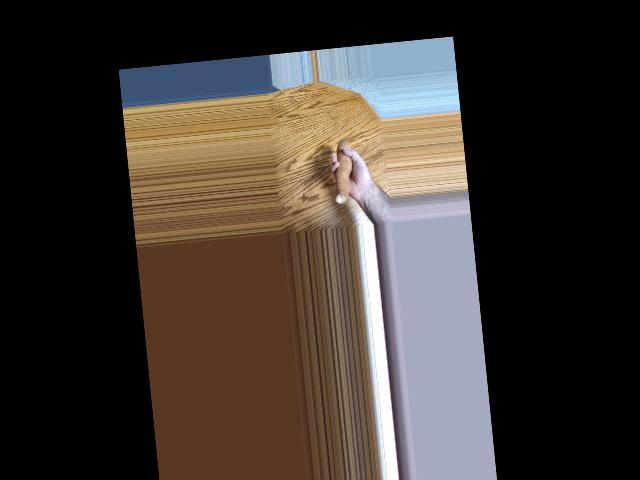sweet_potato: (331, 133, 359, 206)
